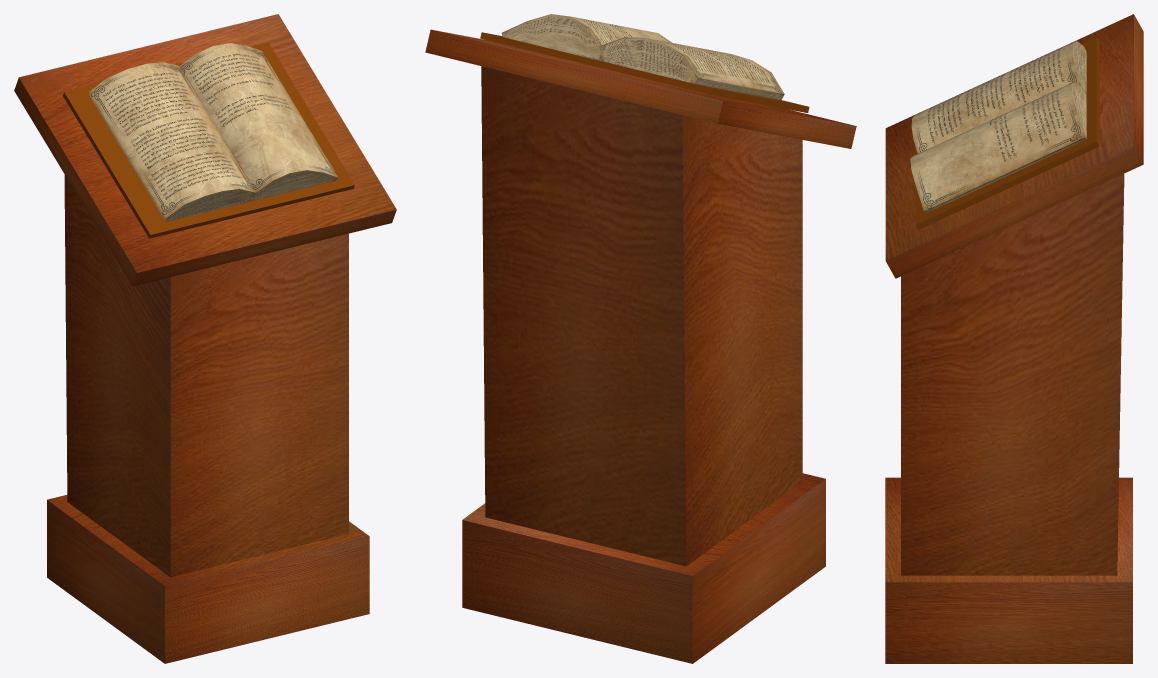
File: Book.fbx
The picture shows the model from 3 angles, left to right: view 1: azimuth 30°, elevation 25°; view 2: azimuth 150°, elevation 25°; view 3: azimuth 270°, elevation 25°; orthographic projection. The views are drawn at different scales.
Parts seen in each view (by area): view 1: Cube, Cube_2, Cube_1, Cube_4, Cube_5, Cube_3; view 2: Cube, Cube_1, Cube_2, Cube_4, Cube_5, Cube_3; view 3: Cube, Cube_1, Cube_2, Cube_5, Cube_4, Cube_3.
Boxes of the visible parts, <box> form: Cube: <box>64,175,348,577</box>; Cube_2: <box>14,14,396,286</box>; Cube_1: <box>47,495,369,663</box>; Cube_4: <box>88,62,255,221</box>; Cube_5: <box>179,43,338,202</box>; Cube_3: <box>63,42,354,238</box>; Cube: <box>481,66,802,566</box>; Cube_1: <box>462,473,825,663</box>; Cube_2: <box>425,29,856,148</box>; Cube_4: <box>598,37,784,100</box>; Cube_5: <box>501,14,672,61</box>; Cube_3: <box>480,32,809,112</box>; Cube: <box>901,174,1124,575</box>; Cube_1: <box>885,477,1132,663</box>; Cube_2: <box>885,14,1143,278</box>; Cube_5: <box>910,82,1086,213</box>; Cube_4: <box>911,40,1086,153</box>; Cube_3: <box>915,37,1099,229</box>.
Size of the model in its own units: 144 by 276 by 119.
4 materials, 3 textured.
